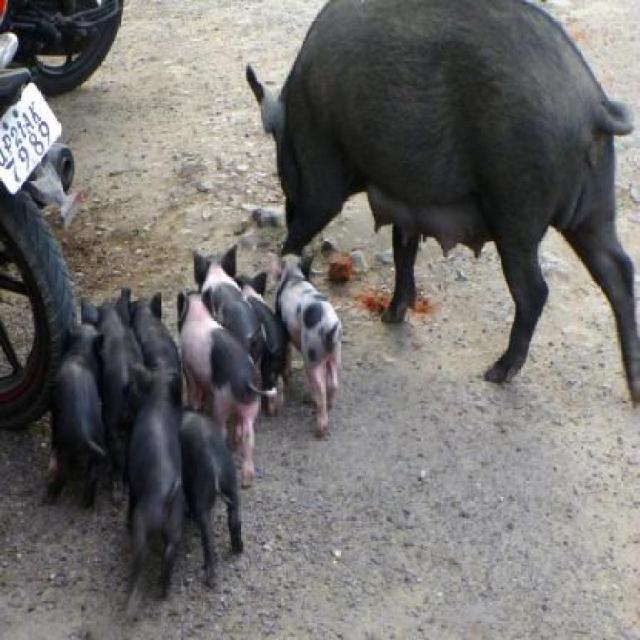pig: (41, 0, 640, 621)
